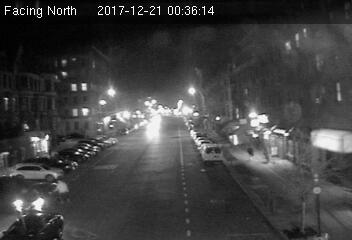car: (12, 181, 67, 215)
truck: (203, 144, 223, 163)
